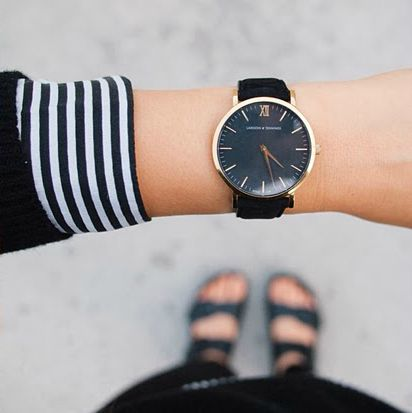clock: (218, 100, 312, 196)
